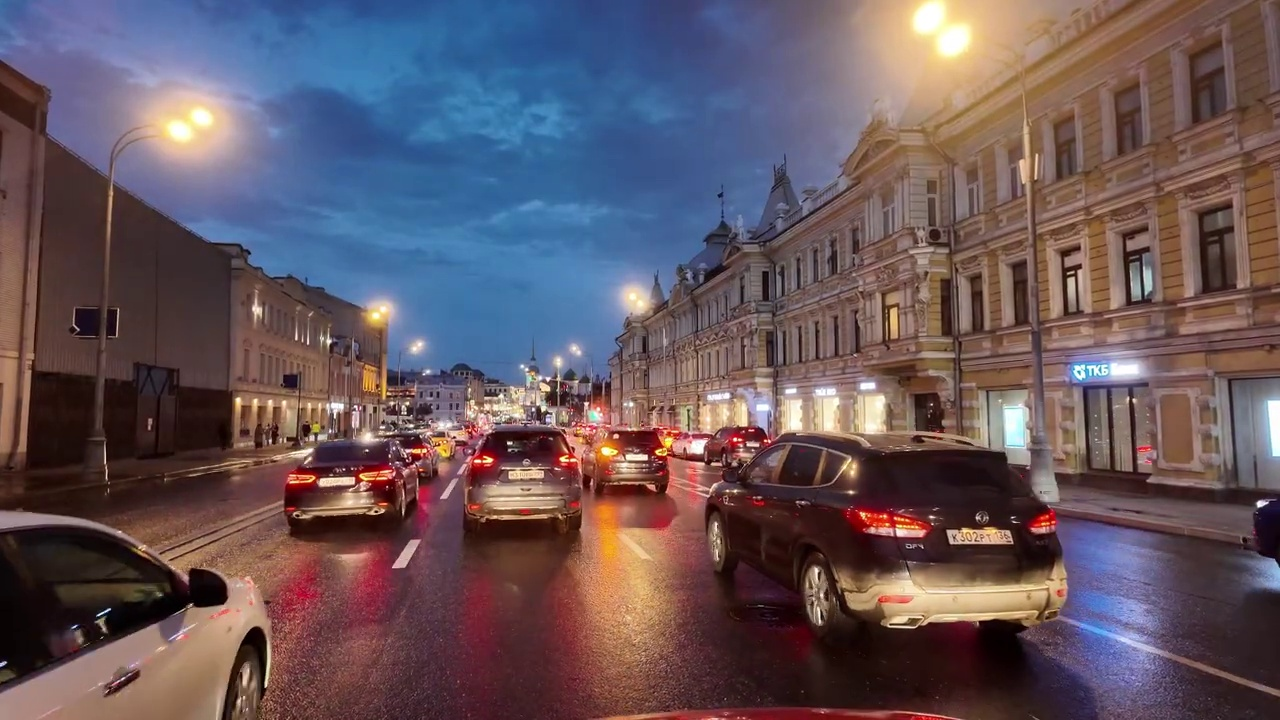acesa: (910, 9, 979, 62), (158, 103, 216, 150), (623, 286, 653, 316), (362, 301, 392, 329), (405, 336, 427, 358), (563, 343, 583, 361)
